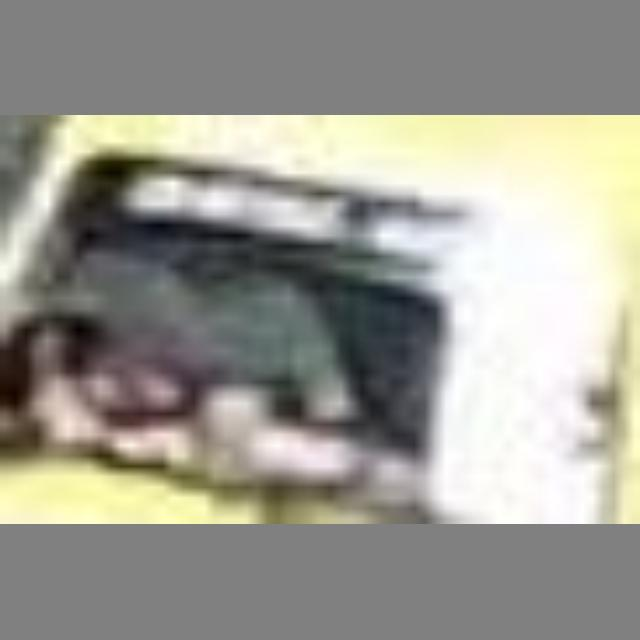tidak-pakai: (84, 209, 367, 430)
